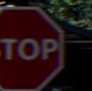Stop: (0, 3, 70, 88)
